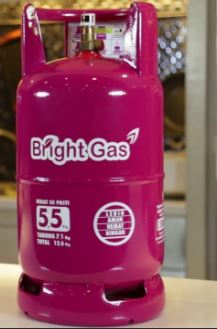bright_gas: (17, 1, 165, 329)
